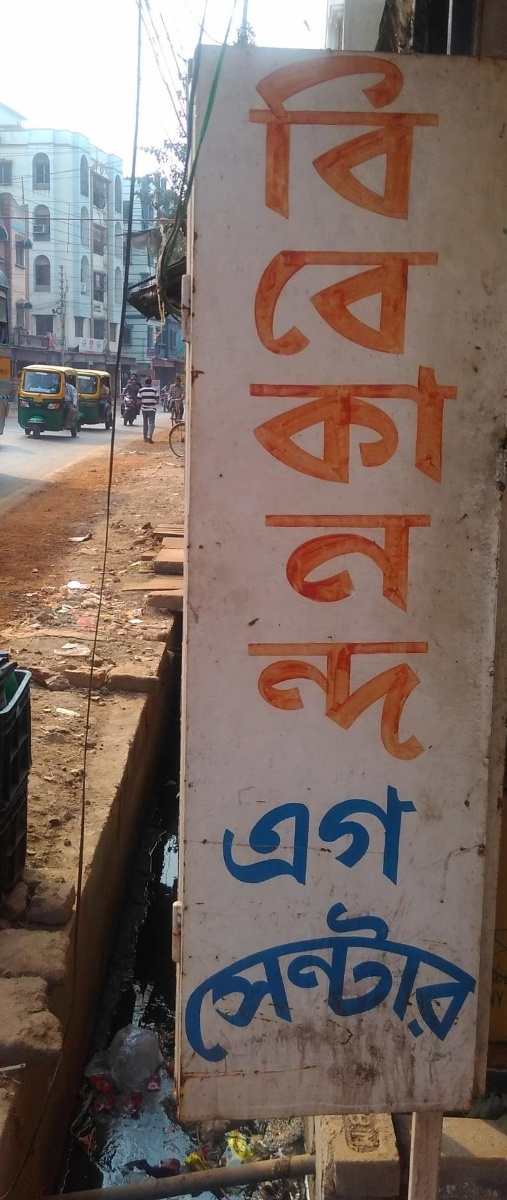text: (241, 51, 256, 767), (257, 51, 272, 767), (273, 51, 288, 767), (289, 51, 304, 767), (305, 51, 320, 767), (321, 51, 336, 767), (337, 51, 352, 767), (353, 51, 368, 767), (369, 51, 384, 767), (385, 51, 400, 767), (401, 51, 416, 767), (417, 51, 432, 767), (433, 51, 448, 767), (449, 51, 464, 767), (465, 51, 469, 767), (193, 875, 208, 1065), (209, 875, 224, 1065), (225, 875, 240, 1065), (241, 875, 256, 1065), (257, 875, 272, 1065), (273, 875, 288, 1065), (289, 875, 304, 1065), (305, 875, 320, 1065), (321, 875, 336, 1065), (337, 875, 352, 1065), (353, 875, 368, 1065), (369, 875, 384, 1065), (385, 875, 400, 1065), (401, 875, 416, 1065), (417, 875, 432, 1065), (433, 875, 448, 1065), (449, 875, 464, 1065), (465, 875, 480, 1065), (481, 875, 496, 1065), (182, 875, 192, 1065), (209, 780, 224, 895), (225, 780, 240, 895), (241, 780, 256, 895), (257, 780, 272, 895), (273, 780, 288, 895), (289, 780, 304, 895), (305, 780, 320, 895), (321, 780, 336, 895), (337, 780, 352, 895), (353, 780, 368, 895), (369, 780, 384, 895), (385, 780, 400, 895), (401, 780, 416, 895), (417, 780, 432, 895), (202, 780, 208, 895), (433, 780, 435, 895), (81, 338, 96, 352), (33, 395, 48, 408), (497, 875, 498, 1065), (97, 338, 105, 352), (79, 338, 80, 352), (31, 395, 32, 408), (49, 395, 50, 408)
